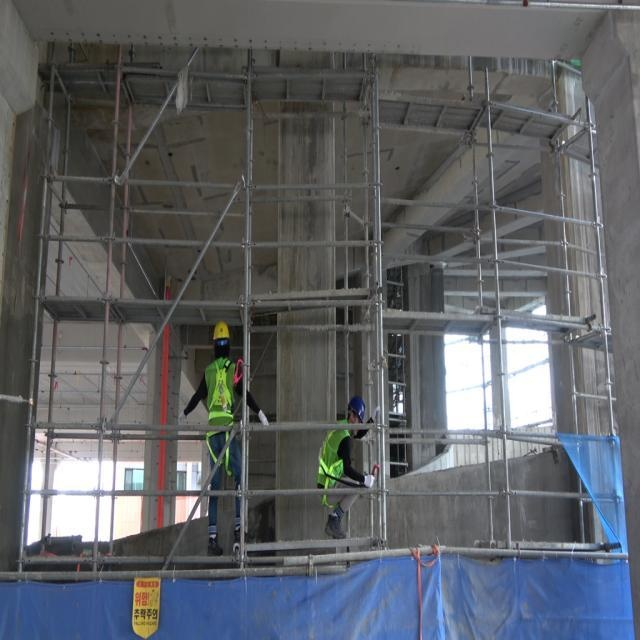Arnes_seguridad: (207, 362, 235, 470), (317, 428, 343, 508)
